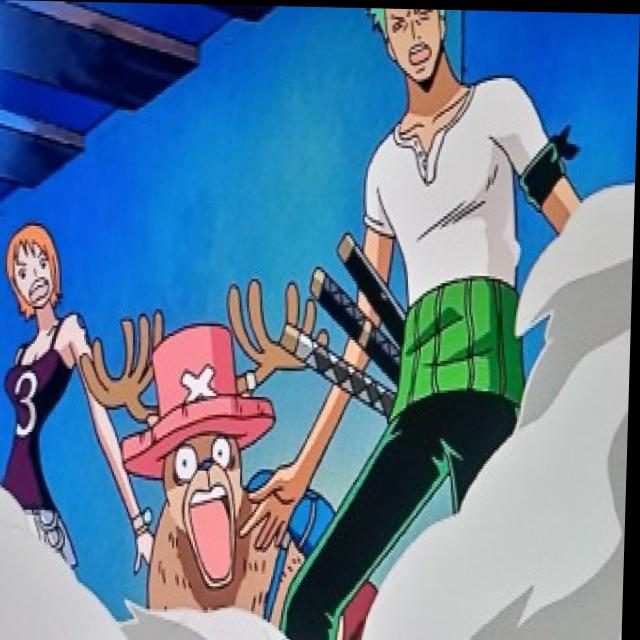Chyopa: (90, 277, 312, 593)
Nami: (0, 208, 81, 323)
Zoro: (367, 6, 456, 103)
